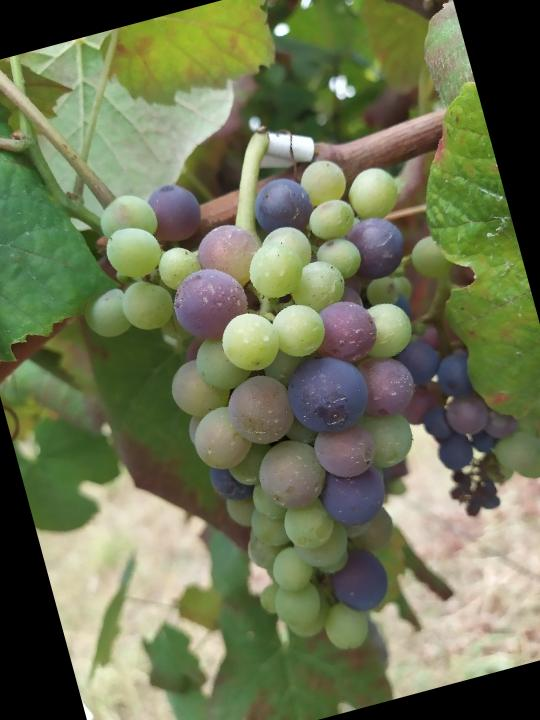grape: (53, 121, 515, 700)
